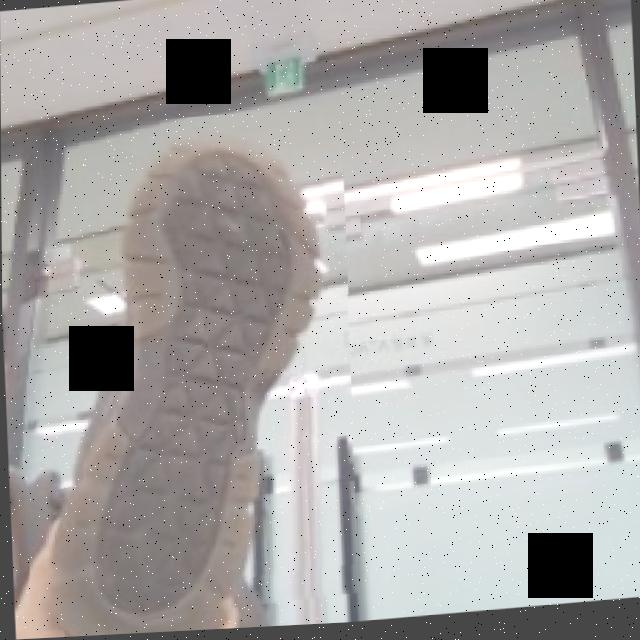shoe: (10, 107, 361, 634)
